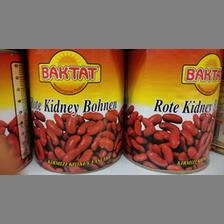Bohnen: (25, 47, 122, 172), (127, 48, 221, 176)
